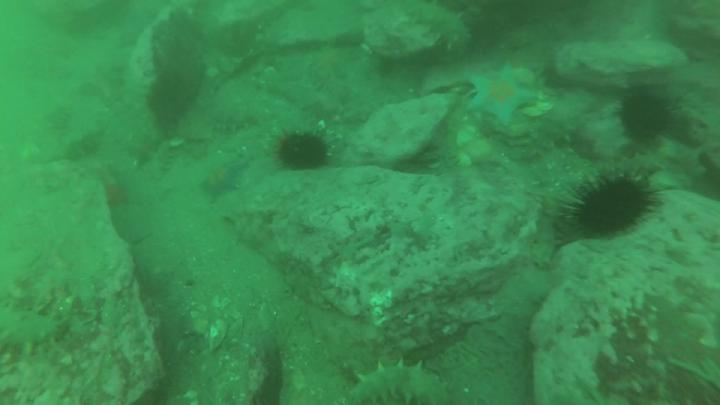echinus: (559, 165, 663, 250), (615, 84, 674, 154), (145, 69, 201, 131), (273, 127, 335, 174)
holothurian: (520, 86, 598, 161), (340, 359, 453, 405), (398, 1, 475, 59), (1, 297, 71, 357), (201, 108, 263, 138), (147, 138, 179, 188)
starfish: (463, 65, 537, 121), (199, 158, 250, 208)
